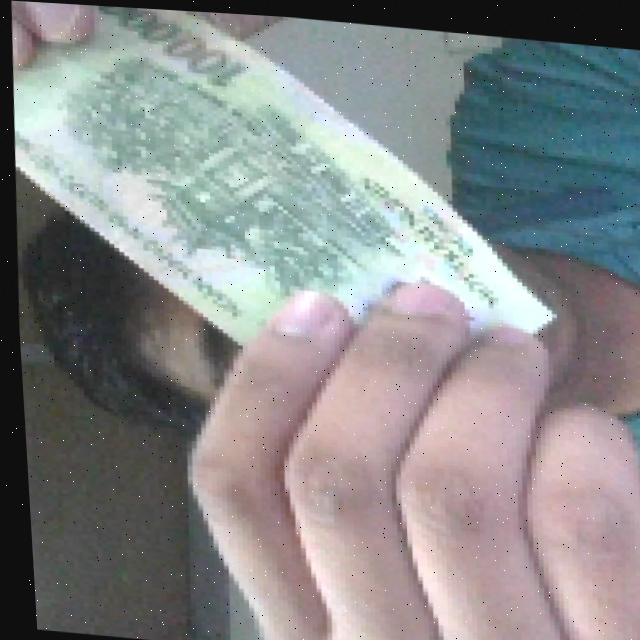100 000 VND: (0, 0, 565, 379)
